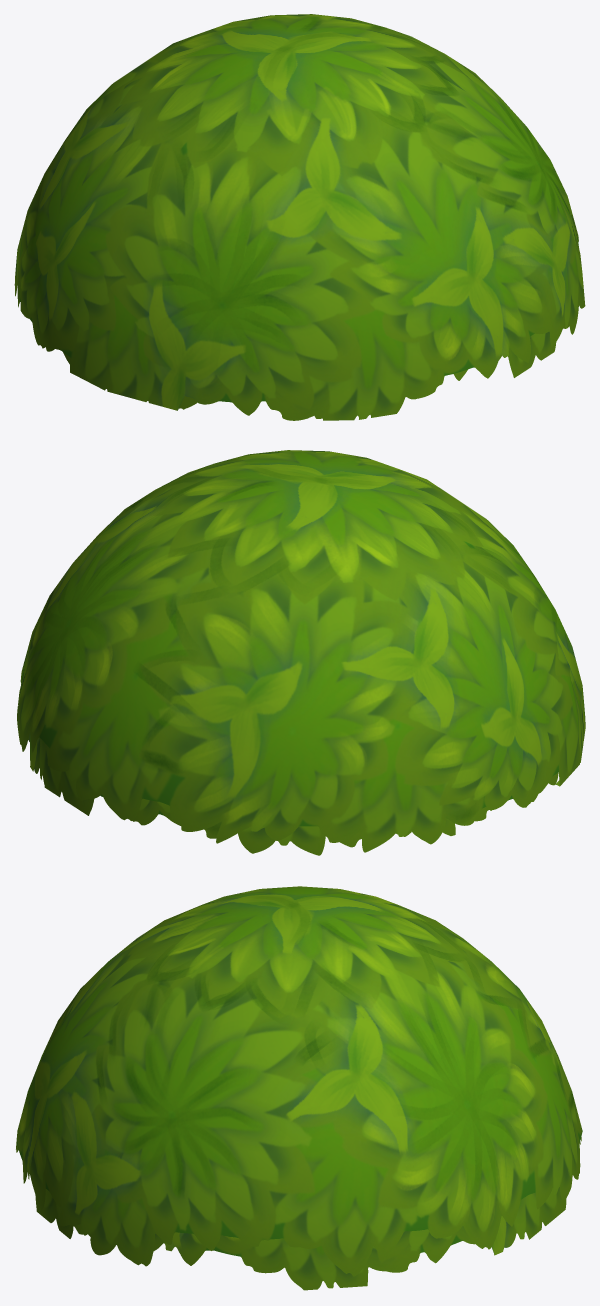
Rendered from HalveBol.fbx.
The picture shows the model from 3 angles, top to bottom: view 1: azimuth 30°, elevation 25°; view 2: azimuth 150°, elevation 25°; view 3: azimuth 270°, elevation 25°; orthographic projection.
Visible parts, largest first — view 1: pSphere1; view 2: pSphere1; view 3: pSphere1.
Part boxes in pixels (<box>): pSphere1: <box>14,14,585,420</box>; pSphere1: <box>17,450,585,855</box>; pSphere1: <box>16,886,582,1290</box>.
Size of the model in its own units: 4.76 by 2.38 by 4.76.
Materials: 1 (1 with a texture image).
